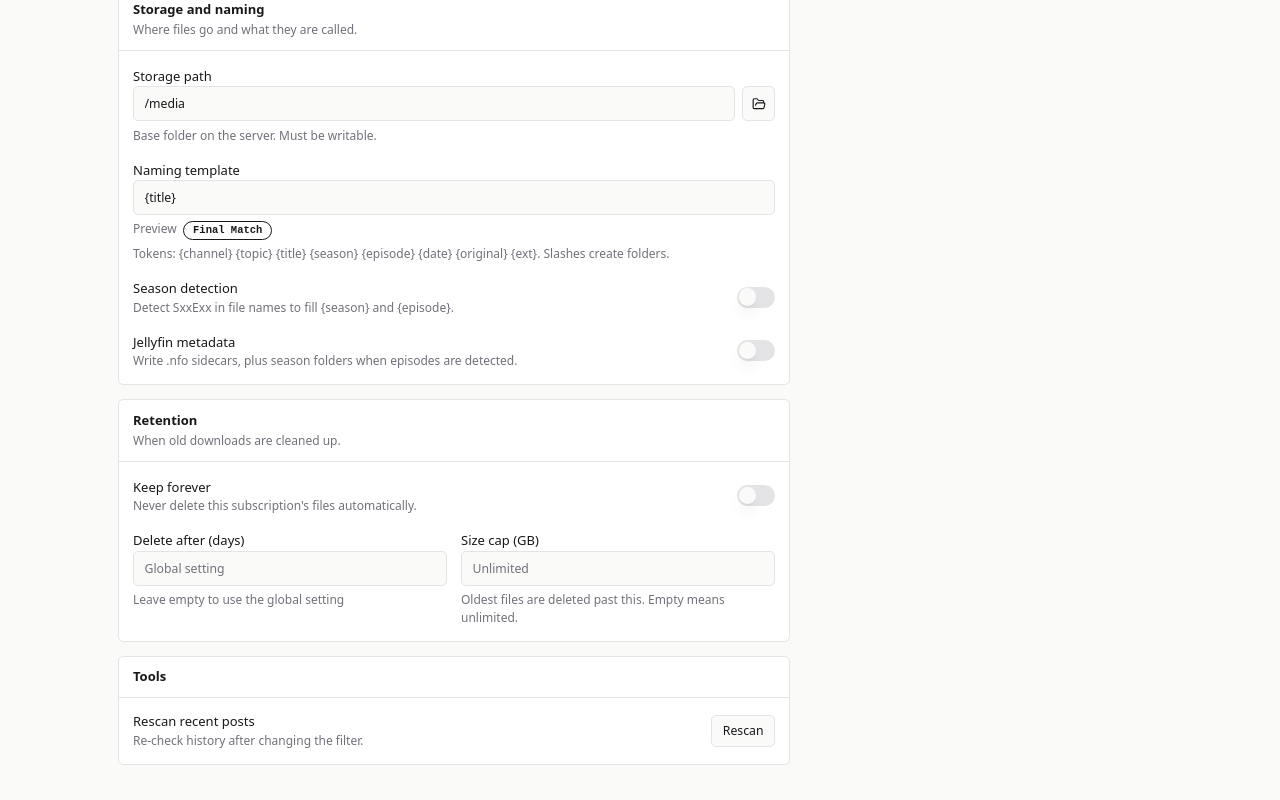
Scenario: SubscriptionEditor page › has retention helper text, keep switch and rescan tool when editing
The width and height of the screenshot is (1280, 800).
(page scrolled)
expect the text "Leave empty to use the global setting" is shown: met, box [133,591,344,608]
expect the switch named "Keep forever" in the row of "Keep forever" is shown: met, box [736,485,775,506]
Click the button "Rescan". click: (743, 731)
box: [711,715,775,747]
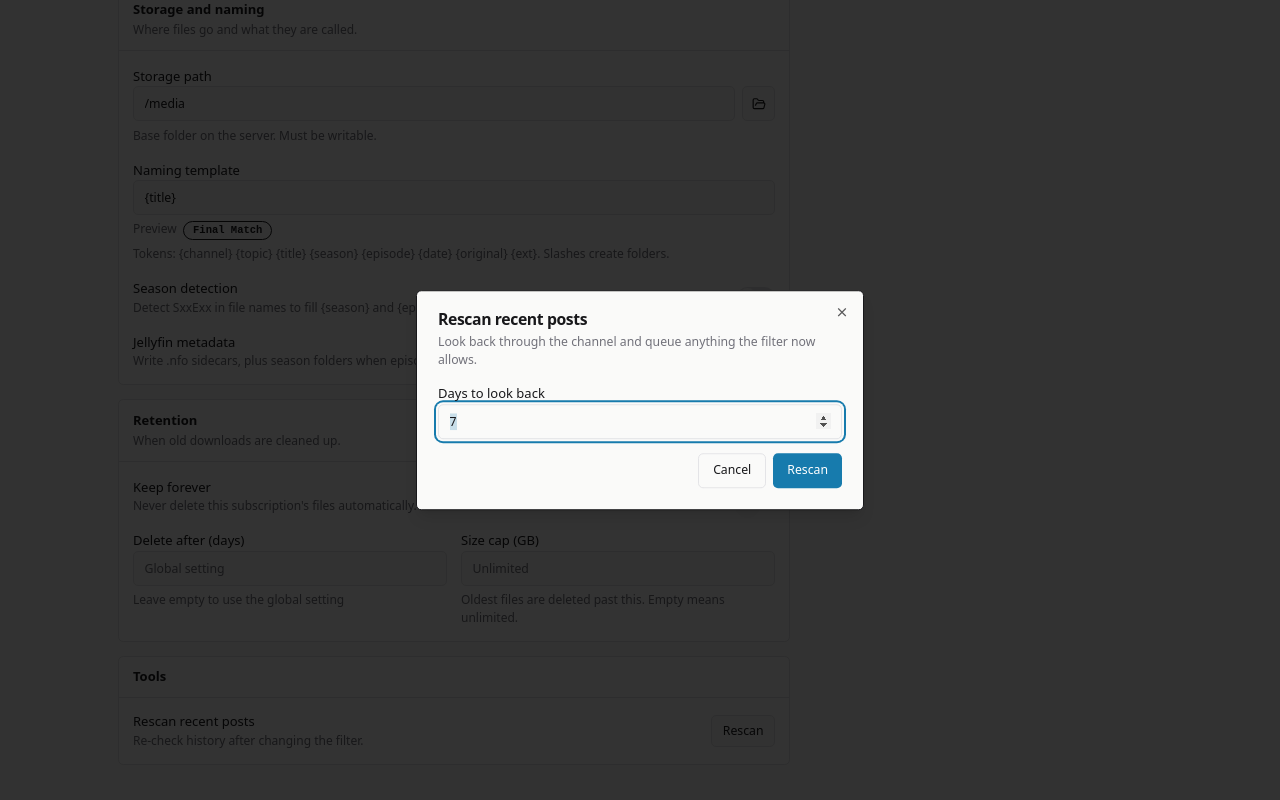
expect the number field labelled "Days to look back" is shown: met, box [438,404,842,439]
